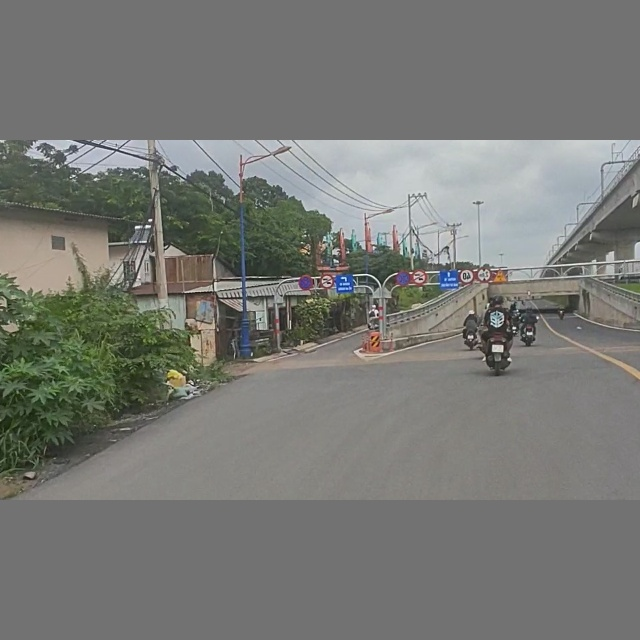P.107: (411, 269, 428, 285), (319, 275, 335, 289)
P.117*: (477, 267, 491, 283)
P.127*40: (459, 269, 475, 283)
P.130: (395, 271, 410, 286), (299, 275, 313, 290)
W.239b*: (491, 268, 509, 284)
